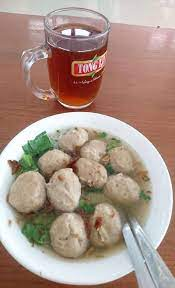bakso: (11, 126, 152, 258)
